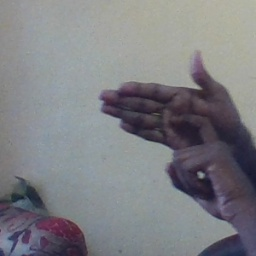R: (98, 51, 243, 194)
